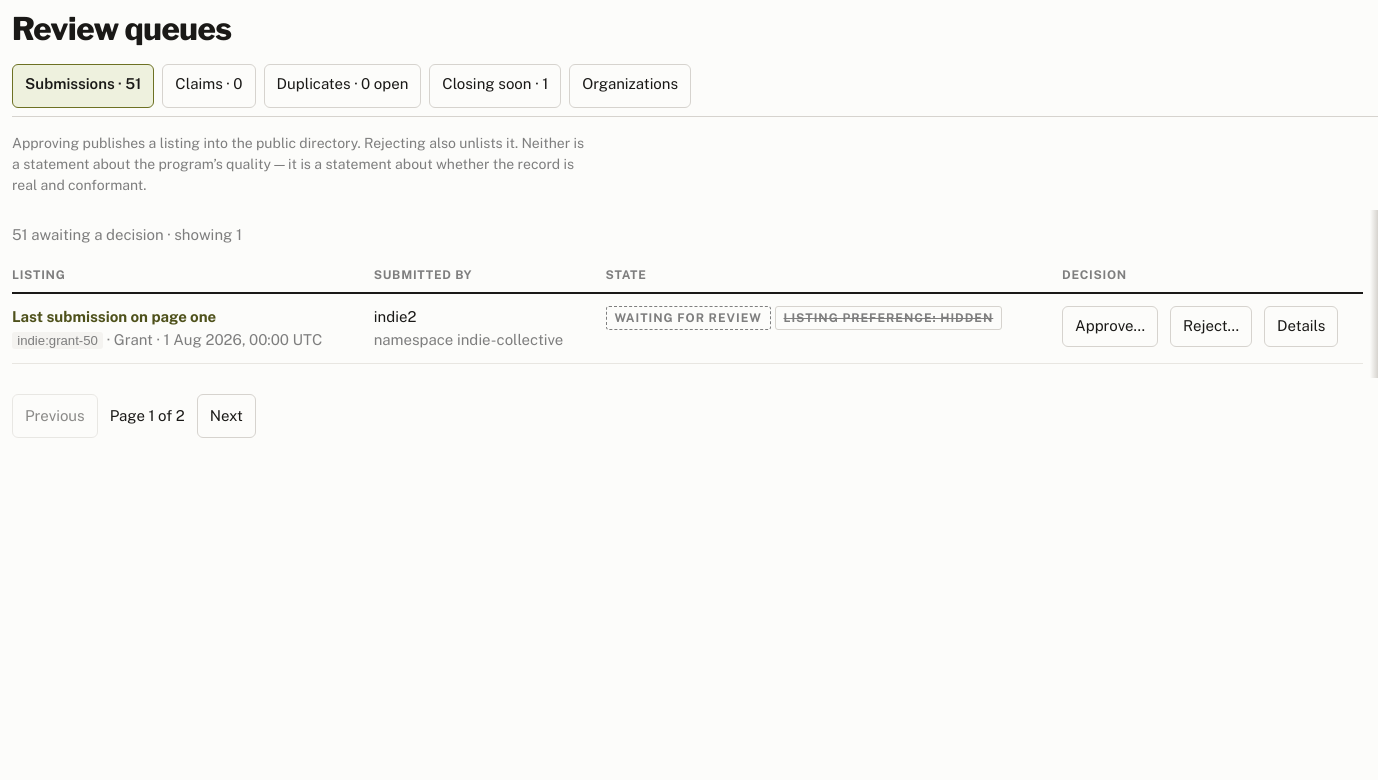
Test: deciding a submission › returns to the new last page after deciding its final submission
Click the button "Next". click: coordinates (226, 416)
box: top-left (197, 394), bottom-right (256, 438)
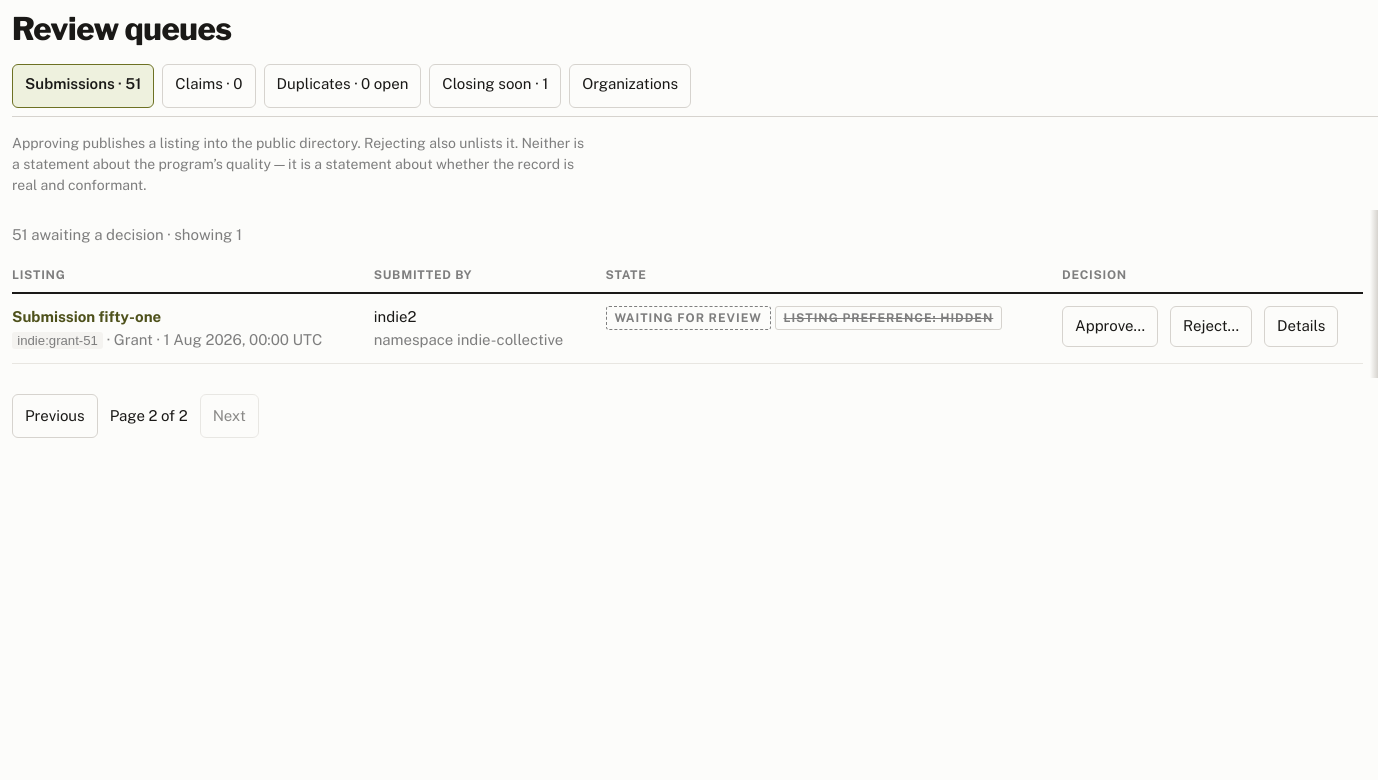
expect the text "Submission fifty-one" is shown: met, box top-left (12, 308), bottom-right (161, 325)
Click the button "Approve…". click: coordinates (1110, 327)
box: top-left (1062, 306), bottom-right (1158, 347)
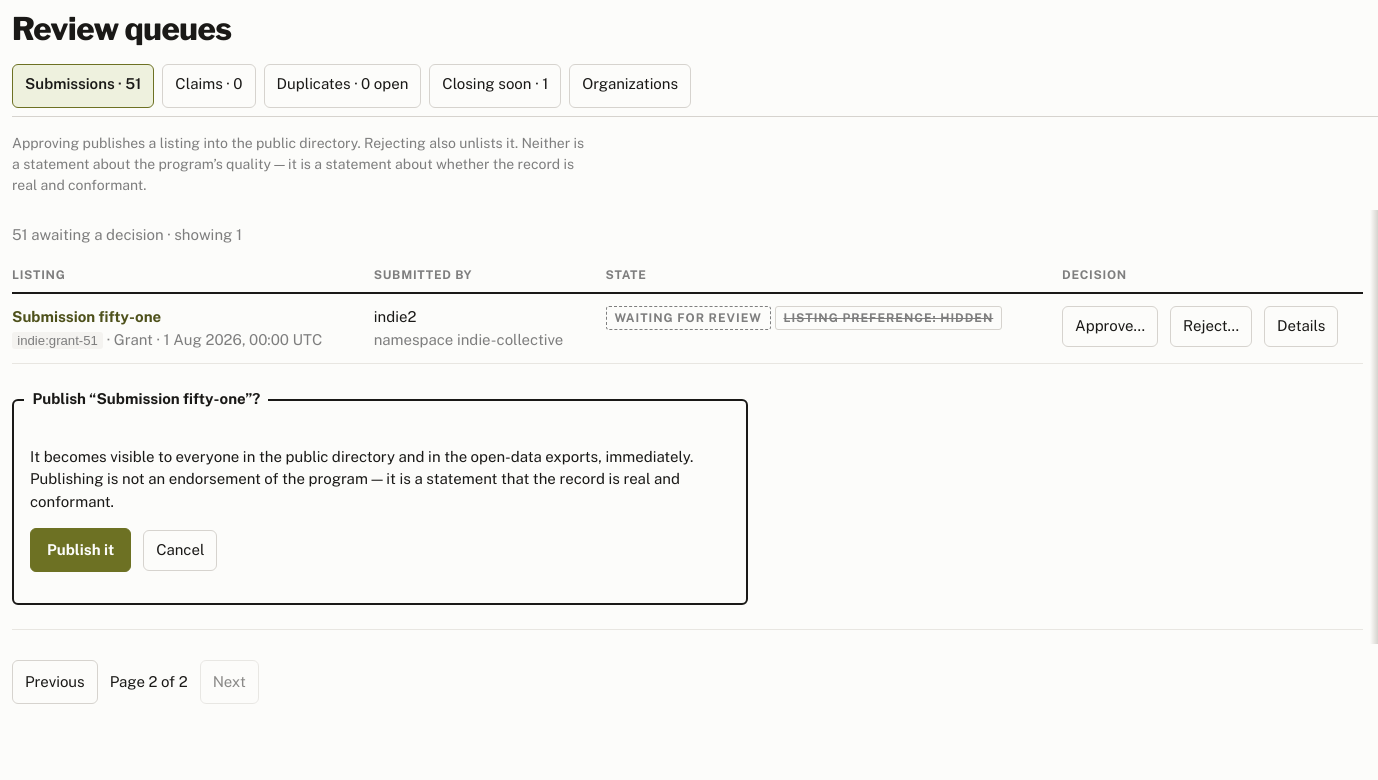
Click the button "Publish it". click: coordinates (81, 550)
box: top-left (30, 528), bottom-right (131, 572)
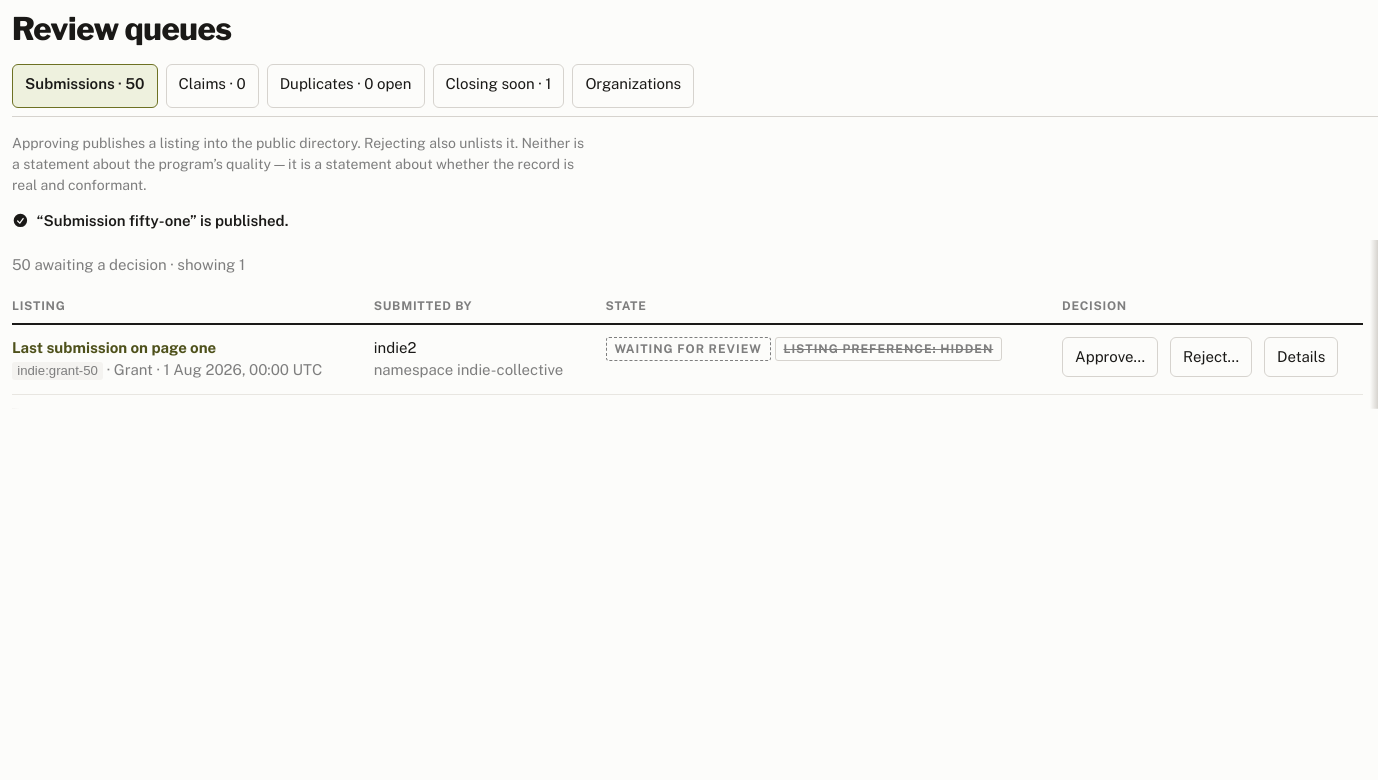
expect the text "Last submission on page one" is shown: met, box top-left (12, 339), bottom-right (216, 356)
